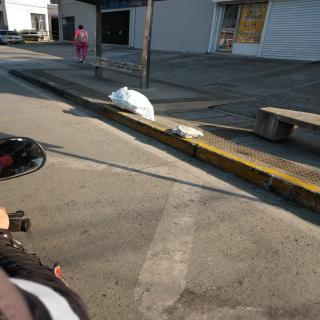Garbage: (106, 84, 160, 127)
